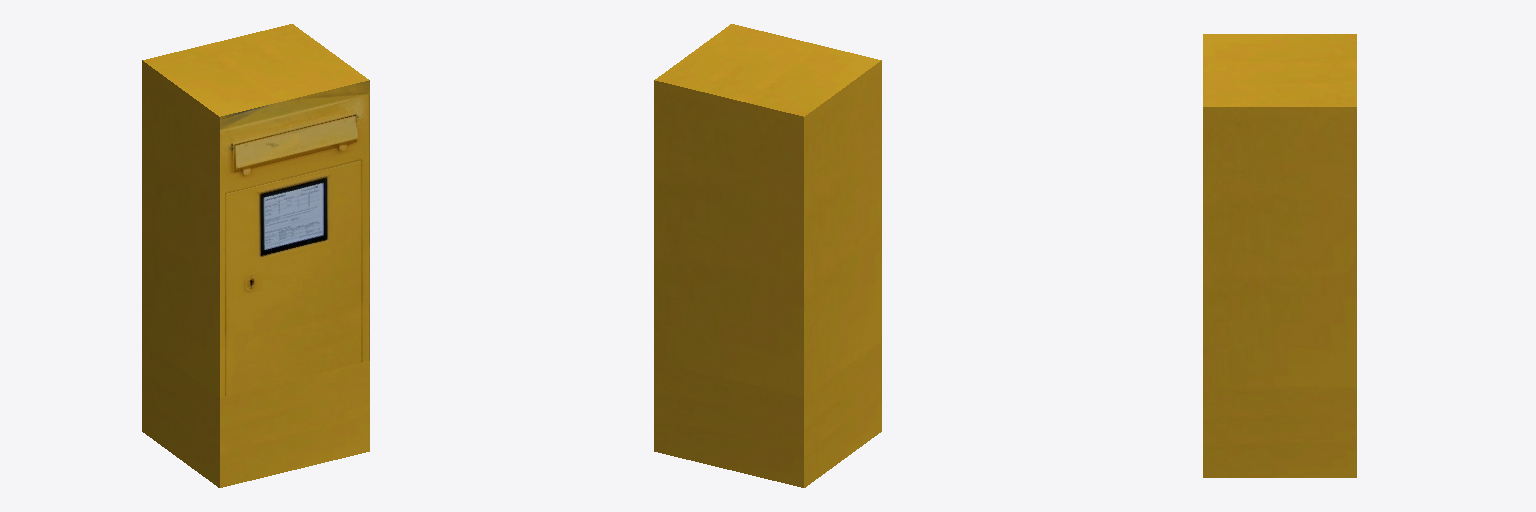
3 renders of one model, left to right at view 1: azimuth 30°, elevation 25°; view 2: azimuth 150°, elevation 25°; view 3: azimuth 270°, elevation 25°, orthographic.
Parts seen in each view (by area): view 1: Fahrkartenautomat_Automat; view 2: Fahrkartenautomat_Automat; view 3: Fahrkartenautomat_Automat.
Part boxes in pixels (left/top/right/bottom): Fahrkartenautomat_Automat: left=142, top=24, right=369, bottom=487; Fahrkartenautomat_Automat: left=654, top=24, right=881, bottom=487; Fahrkartenautomat_Automat: left=1203, top=34, right=1356, bottom=477.
Bounding box in the file's own units: 0.89 × 2.1 × 0.793.
Materials: 1 (1 with a texture image).